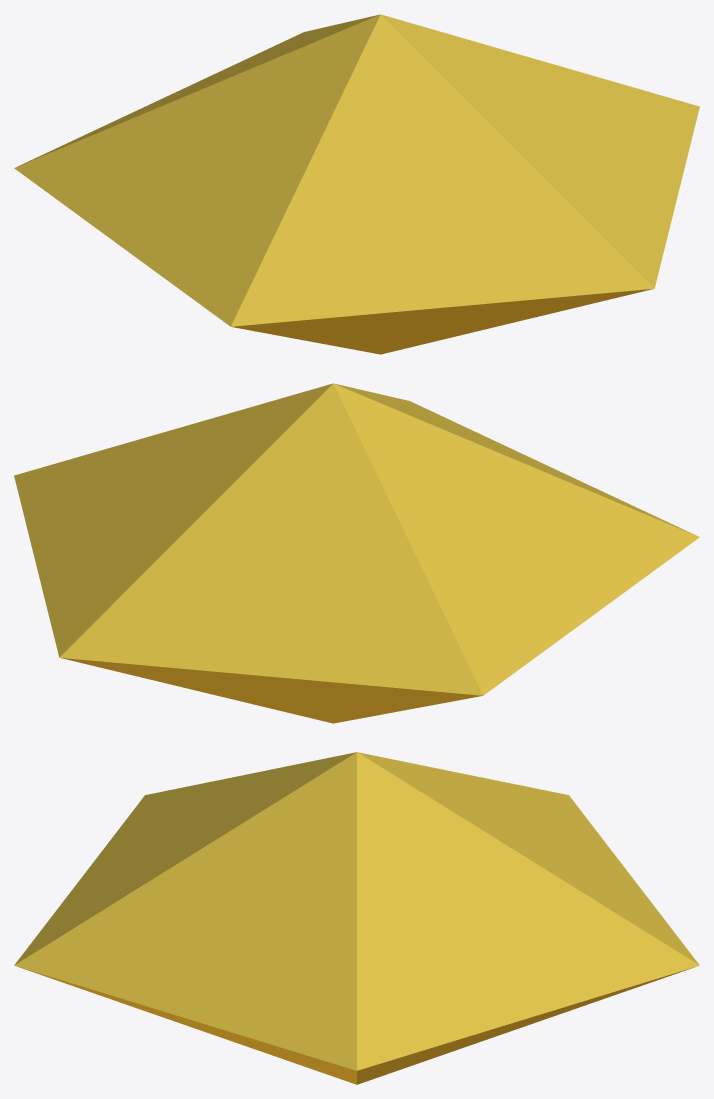
The model's file is star.glb.
3 renders of one model, top to bottom at view 1: azimuth 30°, elevation 25°; view 2: azimuth 150°, elevation 25°; view 3: azimuth 270°, elevation 25°, orthographic. The views are drawn at different scales.
Visible parts, largest first — view 1: m; view 2: m; view 3: m.
Part boxes in pixels (x1,y1,x2,y2): m: (14,14,699,354); m: (14,383,699,723); m: (14,752,699,1084).
Size of the model in its own units: 0.995 by 0.56 by 1.05.
